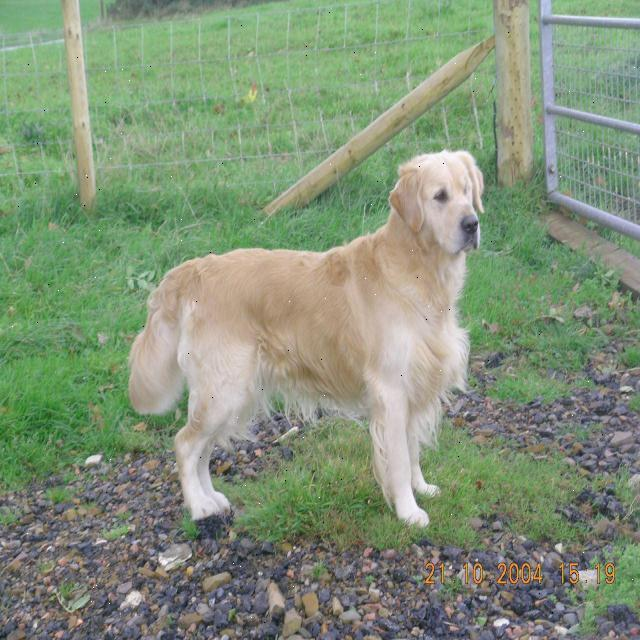golden: (374, 126, 513, 304)
